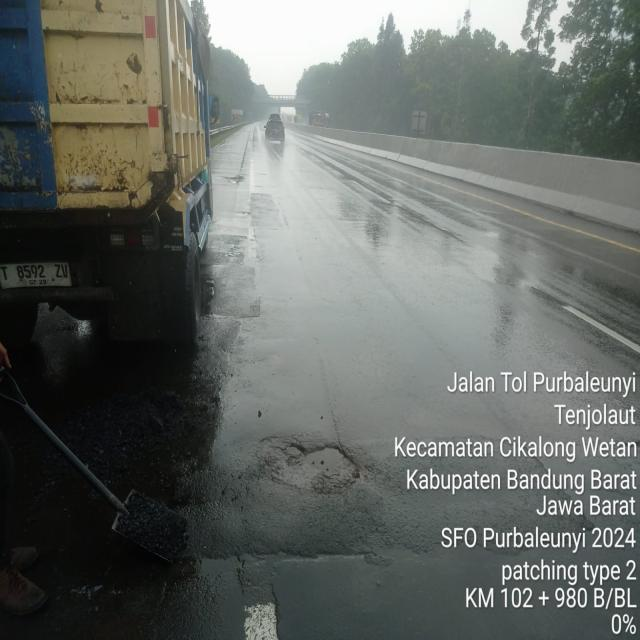Buraco: (251, 432, 366, 499), (222, 174, 246, 186), (232, 210, 253, 218)
